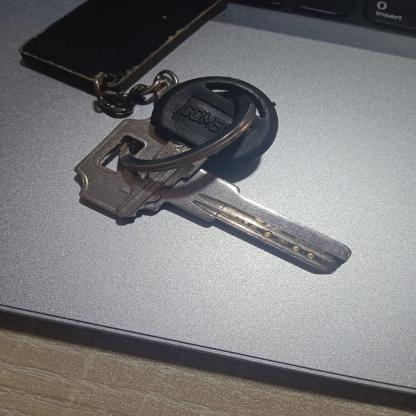key: (90, 118, 349, 272)
